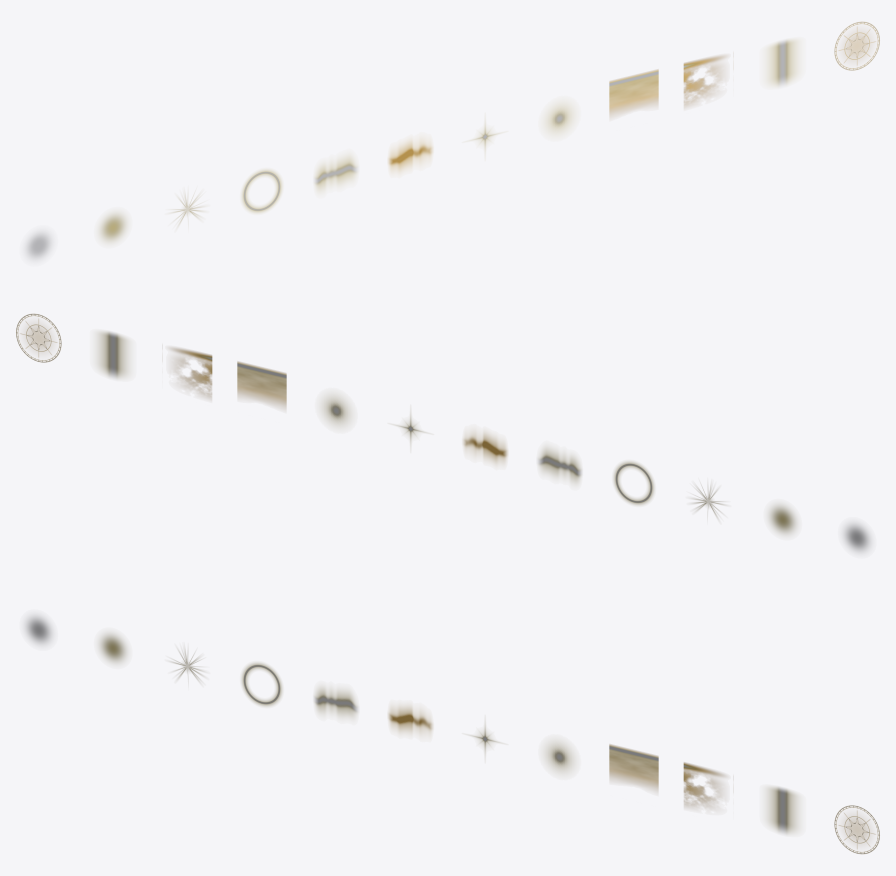
Rendered from SeraphVFX.glb.
3 renders of one model, top to bottom at view 1: azimuth 30°, elevation 25°; view 2: azimuth 150°, elevation 25°; view 3: azimuth 330°, elevation 25°, orthographic.
Visible parts, largest first — view 1: Tex_SlashBand, Tex_Pillar, Tex_Trail, Tex_Ribbon, Tex_HolyCircle, Tex_RibbonGold, Tex_Halo, Tex_Mote, Tex_GlowWhite, Tex_GlowGold; view 2: Tex_SlashBand, Tex_Pillar, Tex_Trail, Tex_Ribbon, Tex_HolyCircle, Tex_RibbonGold, Tex_Halo, Tex_Mote, Tex_GlowWhite, Tex_GlowGold; view 3: Tex_SlashBand, Tex_Pillar, Tex_Trail, Tex_Ribbon, Tex_HolyCircle, Tex_RibbonGold, Tex_Halo, Tex_Mote, Tex_GlowWhite, Tex_GlowGold.
Part boxes in pixels (x1,y1,x2,y2): Tex_SlashBand: (609, 69, 658, 115); Tex_Pillar: (767, 39, 798, 86); Tex_Trail: (683, 56, 724, 105); Tex_Ribbon: (314, 155, 357, 191); Tex_HolyCircle: (834, 22, 879, 70); Tex_RibbonGold: (388, 140, 432, 171); Tex_Halo: (241, 169, 282, 213); Tex_Mote: (545, 103, 574, 134); Tex_GlowWhite: (24, 230, 52, 260); Tex_GlowGold: (99, 212, 127, 242); Tex_SlashBand: (237, 361, 286, 407); Tex_Pillar: (97, 331, 128, 378); Tex_Trail: (171, 348, 212, 397); Tex_Ribbon: (538, 447, 581, 483); Tex_HolyCircle: (16, 314, 61, 362); Tex_RibbonGold: (463, 432, 507, 463); Tex_Halo: (613, 461, 654, 505); Tex_Mote: (321, 395, 350, 426); Tex_GlowWhite: (843, 522, 871, 552); Tex_GlowGold: (768, 504, 796, 534); Tex_SlashBand: (609, 744, 658, 790); Tex_Pillar: (767, 787, 798, 834); Tex_Trail: (683, 762, 724, 807); Tex_Ribbon: (314, 687, 357, 717); Tex_HolyCircle: (834, 805, 879, 853); Tex_RibbonGold: (388, 706, 432, 732); Tex_Halo: (241, 662, 282, 706); Tex_Mote: (545, 741, 574, 772); Tex_GlowWhite: (24, 615, 52, 645); Tex_GlowGold: (99, 633, 127, 663).
Bounding box in the file's own units: 3.5 × 0.2 × 0.
12 materials, 12 textured.
